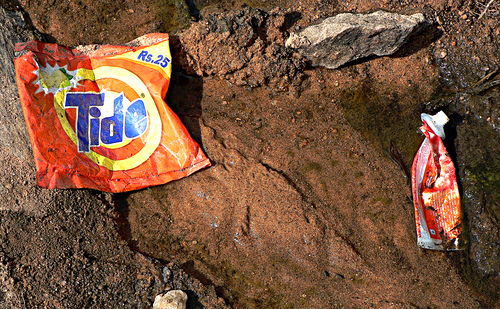litter: (14, 31, 212, 193), (411, 108, 465, 249)
